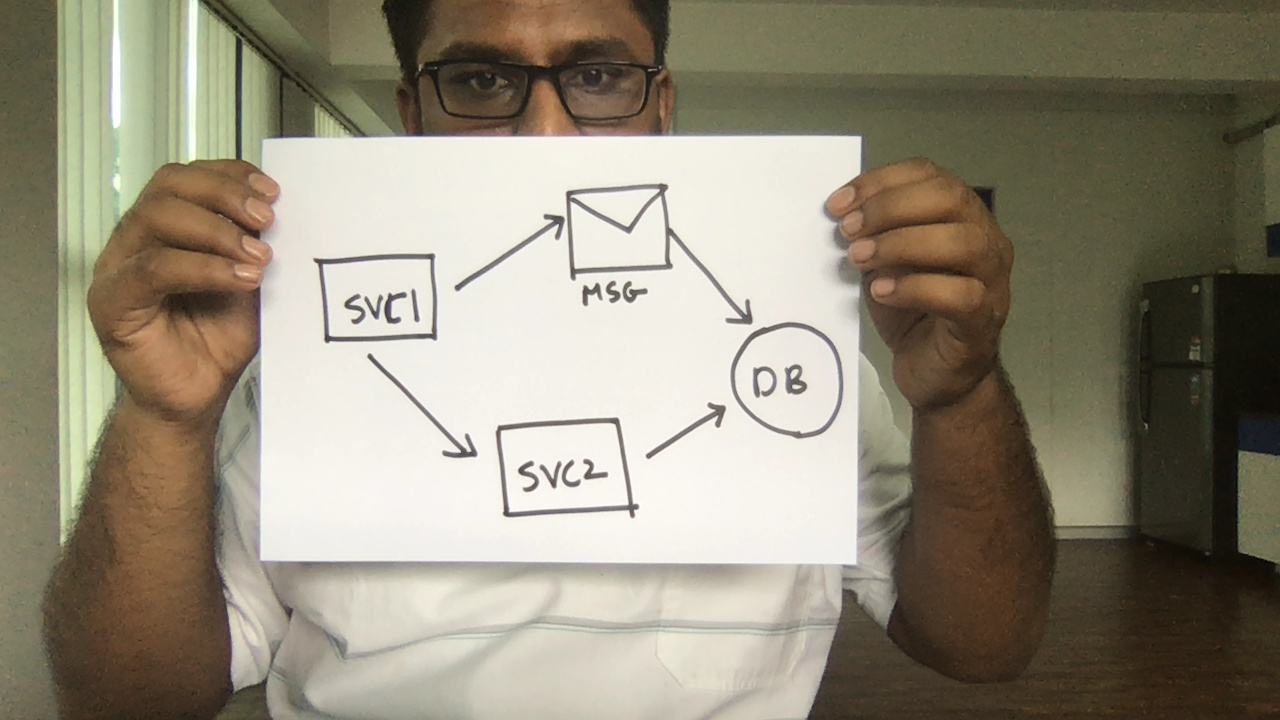arrow: (362, 349, 484, 467), (449, 206, 565, 301), (665, 223, 757, 328), (639, 399, 730, 467)
db: (726, 315, 852, 444)
ec2: (307, 248, 451, 350), (493, 417, 637, 519)
sns: (558, 177, 684, 310)
